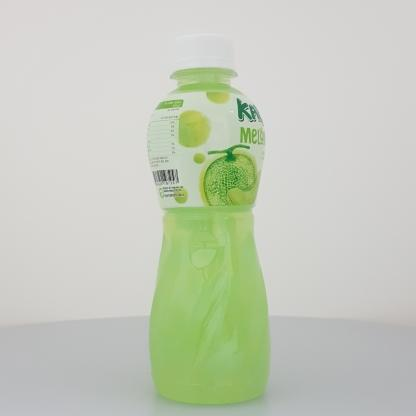-----------: (146, 33, 271, 404)
